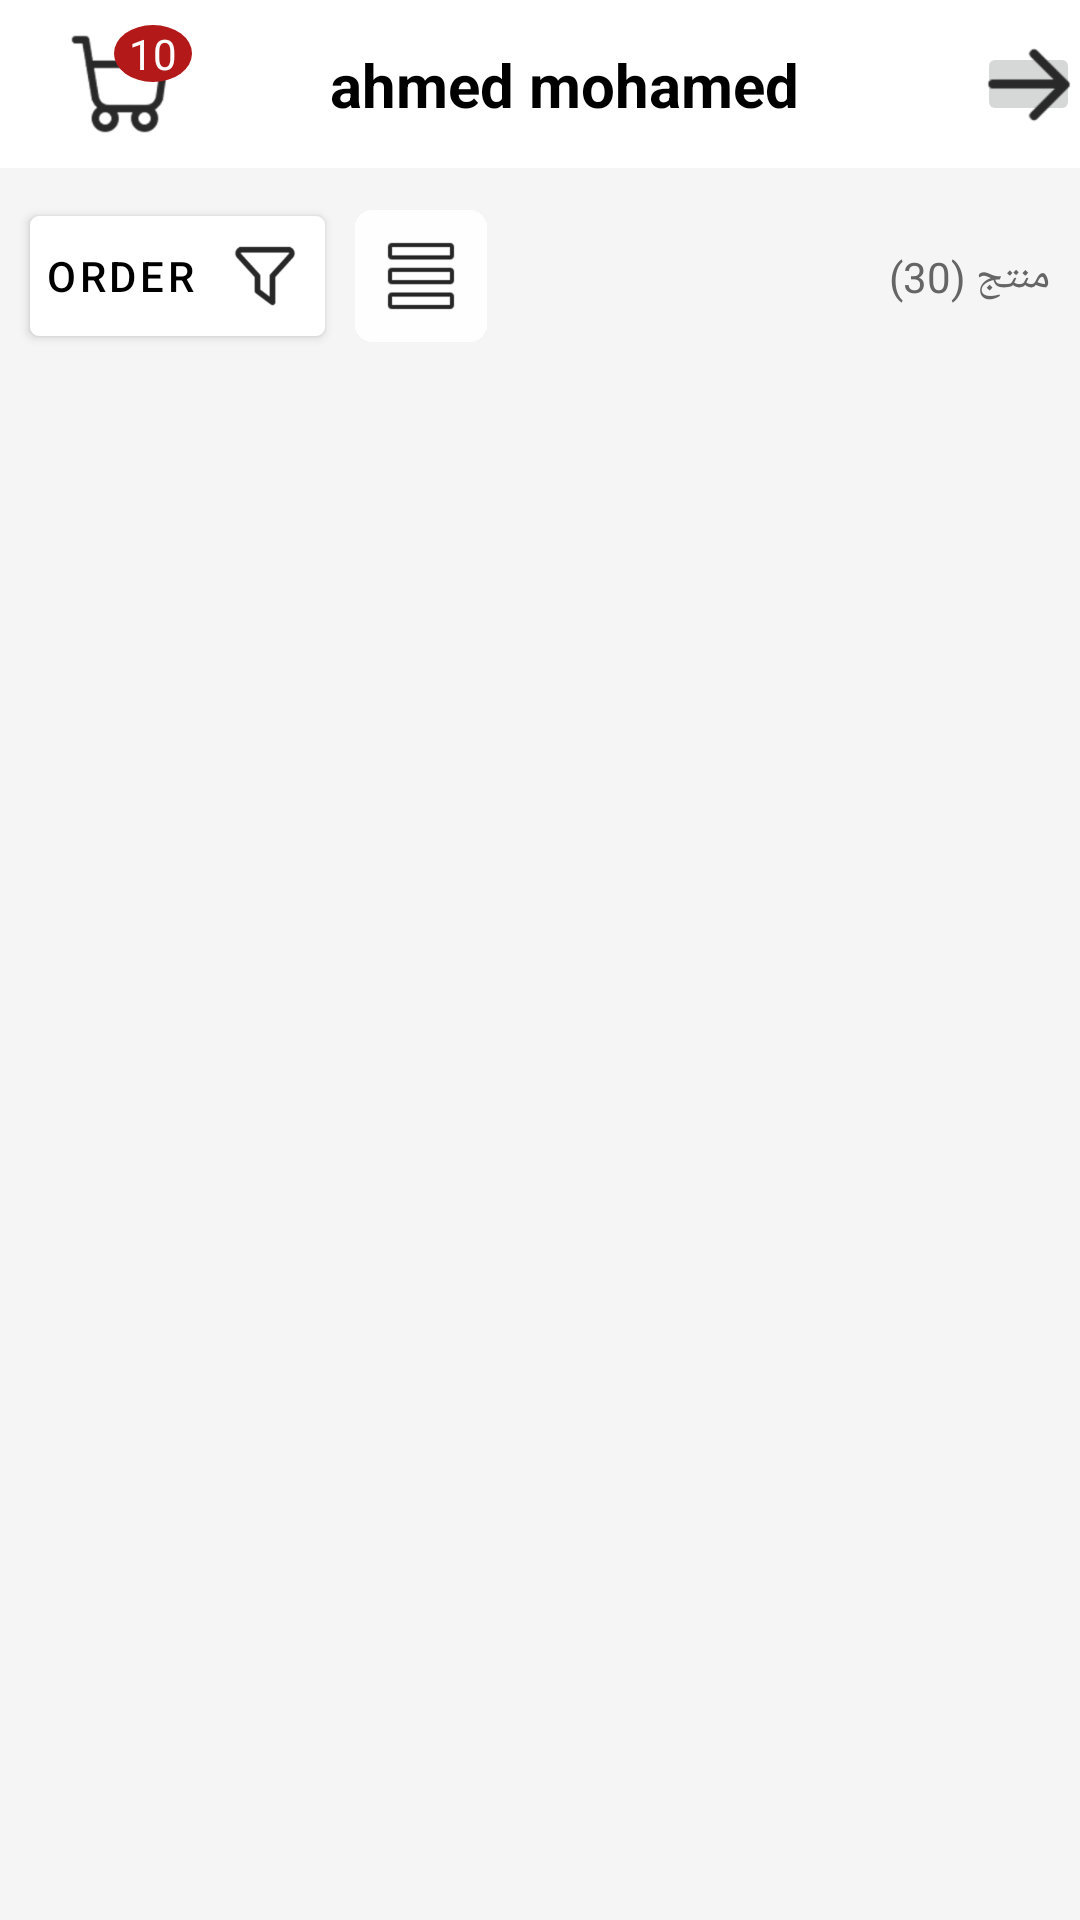

Named icons in this screenshot (1080x1920) and their centers, (x=x, y=y):
cart: (x=131, y=79)
